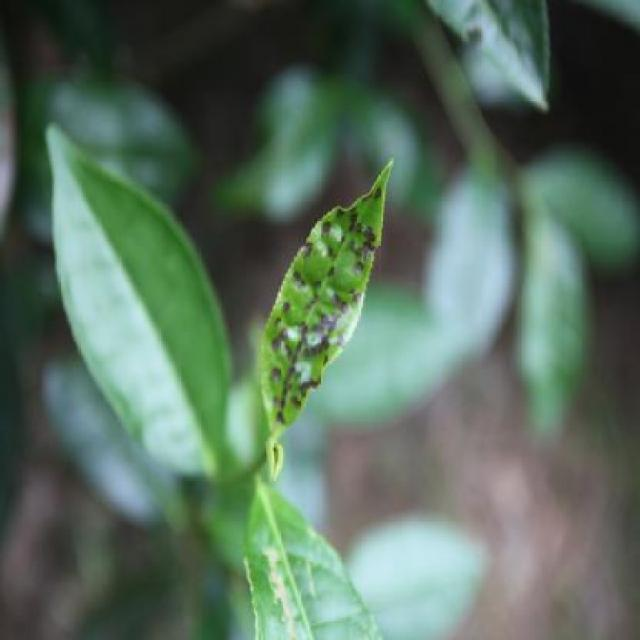Tea Mosquito bug infested leaf: (251, 211, 386, 451)
